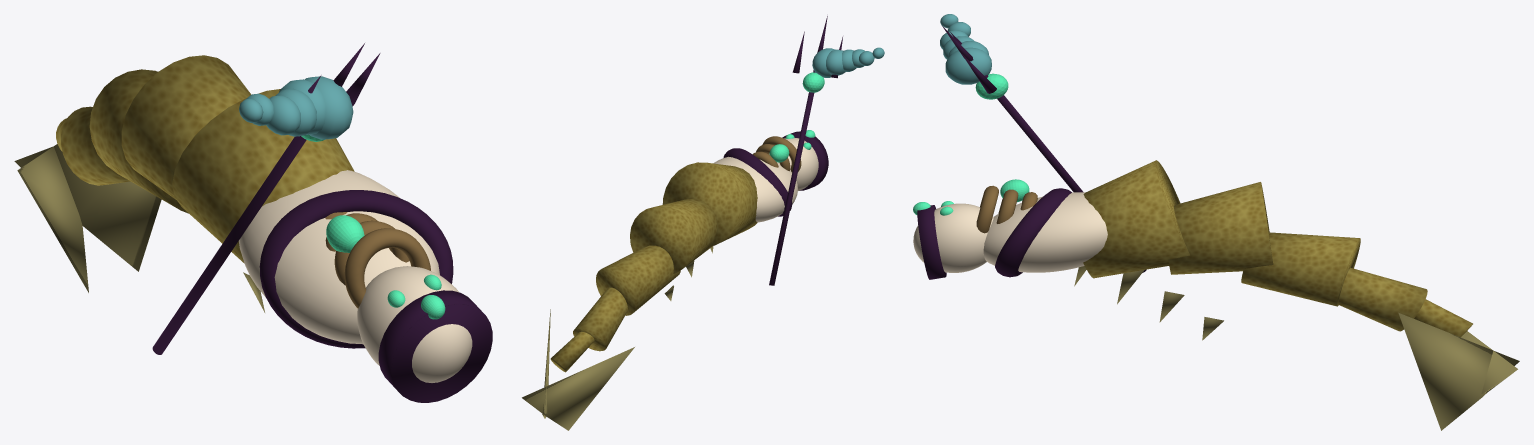
File: 01_adapa_var_deus_dourado_ataque_thrust.obj
3 views of the same model, side by side, from view 1: azimuth 30°, elevation 25°; view 2: azimuth 150°, elevation 25°; view 3: azimuth 270°, elevation 25° (orthographic). The views are drawn at different scales.
Parts seen in each view (by area): view 1: Cone, Sphere, Cone.001, Cylinder, Torus, Sphere.002, Cone.005, Cone.002, Cone.006, Cylinder.001, Torus.001, Cone.003 (+8 smaller); view 2: Cone, Cone.001, Cone.002, Cone.006, Cone.003, Sphere, Cylinder.001, Torus, Cone.004, Sphere.002, Cylinder, Sphere.007 (+3 smaller); view 3: Cone, Cone.001, Cone.005, Cone.002, Sphere, Cone.003, Sphere.002, Torus, Cylinder, Sphere.006, Cone.004, Cylinder.001 (+2 smaller).
Part boxes in pixels (x1=…): Cone: x1=172, y1=89, x2=354, y2=263; Sphere: x1=239, y1=170, x2=439, y2=344; Cone.001: x1=121, y1=55, x2=250, y2=199; Cylinder: x1=378, y1=290, x2=492, y2=402; Torus: x1=259, y1=190, x2=453, y2=348; Sphere.002: x1=357, y1=266, x2=472, y2=382; Cone.005: x1=14, y1=145, x2=161, y2=271; Cone.002: x1=89, y1=69, x2=188, y2=213; Cone.006: x1=17, y1=144, x2=88, y2=292; Cylinder.001: x1=152, y1=136, x2=306, y2=354; Torus.001: x1=344, y1=228, x2=430, y2=308; Cone.003: x1=61, y1=106, x2=130, y2=185; Cone: x1=662, y1=162, x2=757, y2=246; Cone.001: x1=630, y1=198, x2=716, y2=273; Cone.002: x1=596, y1=245, x2=680, y2=315; Cone.006: x1=522, y1=347, x2=634, y2=430; Cone.003: x1=573, y1=287, x2=627, y2=351; Sphere: x1=713, y1=156, x2=797, y2=222; Cylinder.001: x1=769, y1=70, x2=815, y2=285; Torus: x1=723, y1=148, x2=792, y2=216; Cone.004: x1=550, y1=331, x2=594, y2=372; Sphere.002: x1=769, y1=138, x2=818, y2=190; Cylinder: x1=782, y1=131, x2=828, y2=190; Sphere.007: x1=826, y1=49, x2=845, y2=75; Cone: x1=1083, y1=160, x2=1189, y2=278; Cone.001: x1=1168, y1=182, x2=1273, y2=274; Cone.005: x1=1398, y1=312, x2=1519, y2=430; Cone.002: x1=1241, y1=232, x2=1360, y2=306; Sphere: x1=983, y1=192, x2=1107, y2=272; Cone.003: x1=1338, y1=267, x2=1427, y2=331; Sphere.002: x1=913, y1=203, x2=993, y2=272; Torus: x1=995, y1=188, x2=1071, y2=277; Cylinder: x1=917, y1=205, x2=946, y2=279; Sphere.006: x1=945, y1=47, x2=991, y2=84; Cone.004: x1=1414, y1=299, x2=1472, y2=337; Cylinder.001: x1=985, y1=75, x2=1146, y2=272.
Size of the model in its own units: 2.7 by 4.76 by 7.25.
35 materials, 35 textured.
